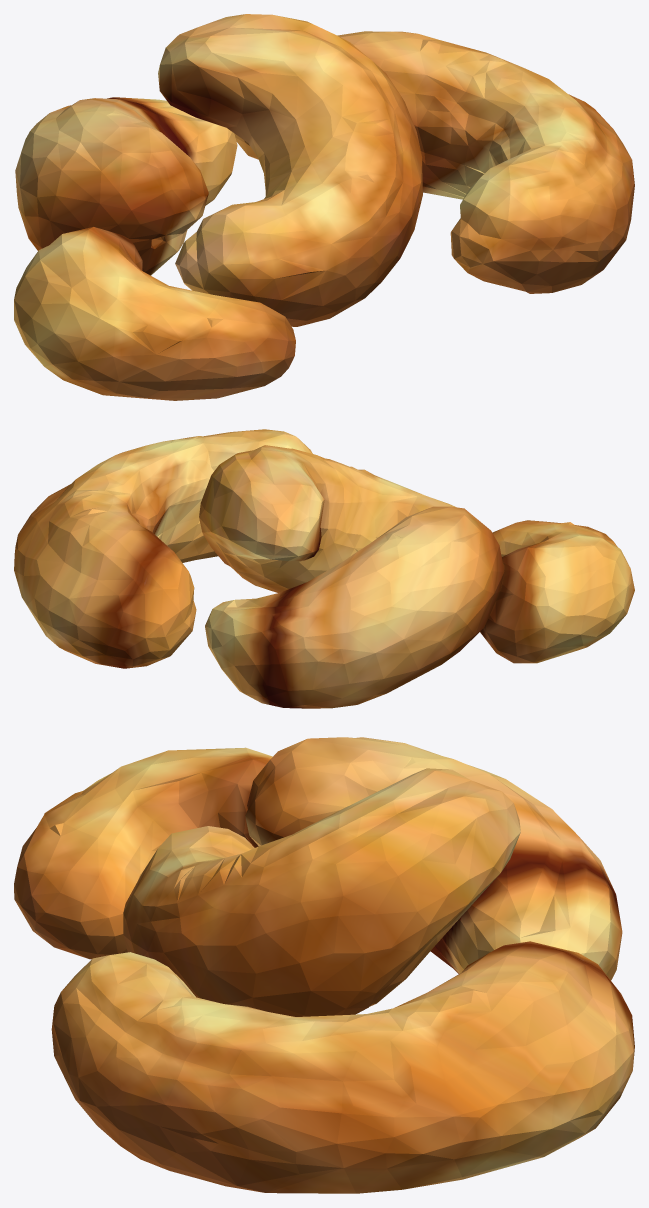
File: BenenutsN.fbx
3 renders of one model, top to bottom at view 1: azimuth 30°, elevation 25°; view 2: azimuth 150°, elevation 25°; view 3: azimuth 270°, elevation 25°, orthographic. The views are drawn at different scales.
Parts seen in each view (by area): view 1: Mesh1.0; view 2: Mesh1.0; view 3: Mesh1.0.
Part boxes in pixels (<box>): Mesh1.0: <box>14,14,634,400</box>; Mesh1.0: <box>14,429,634,708</box>; Mesh1.0: <box>14,737,634,1193</box>.
Bounding box in the file's own units: 190 × 60.7 × 139.
1 material, 1 textured.
